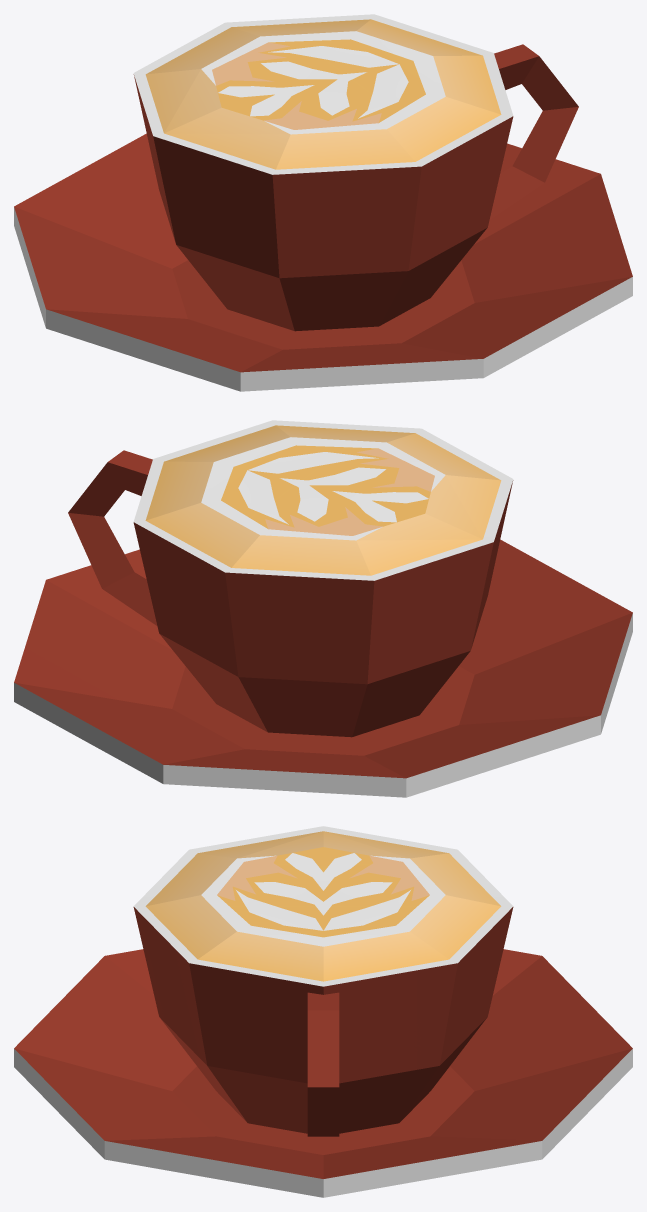
Rendered from coffee_002.glb.
3 views of the same model, one above another, from view 1: azimuth 30°, elevation 25°; view 2: azimuth 150°, elevation 25°; view 3: azimuth 270°, elevation 25° (orthographic). The views are drawn at different scales.
Parts seen in each view (by area): view 1: coffee_002; view 2: coffee_002; view 3: coffee_002.
Part boxes in pixels (<box>): coffee_002: <box>14,14,632,391</box>; coffee_002: <box>14,420,632,797</box>; coffee_002: <box>14,826,632,1197</box>.
Bounding box in the file's own units: 0.1553 × 0.0617 × 0.1553.
Materials: 1 (1 with a texture image).
